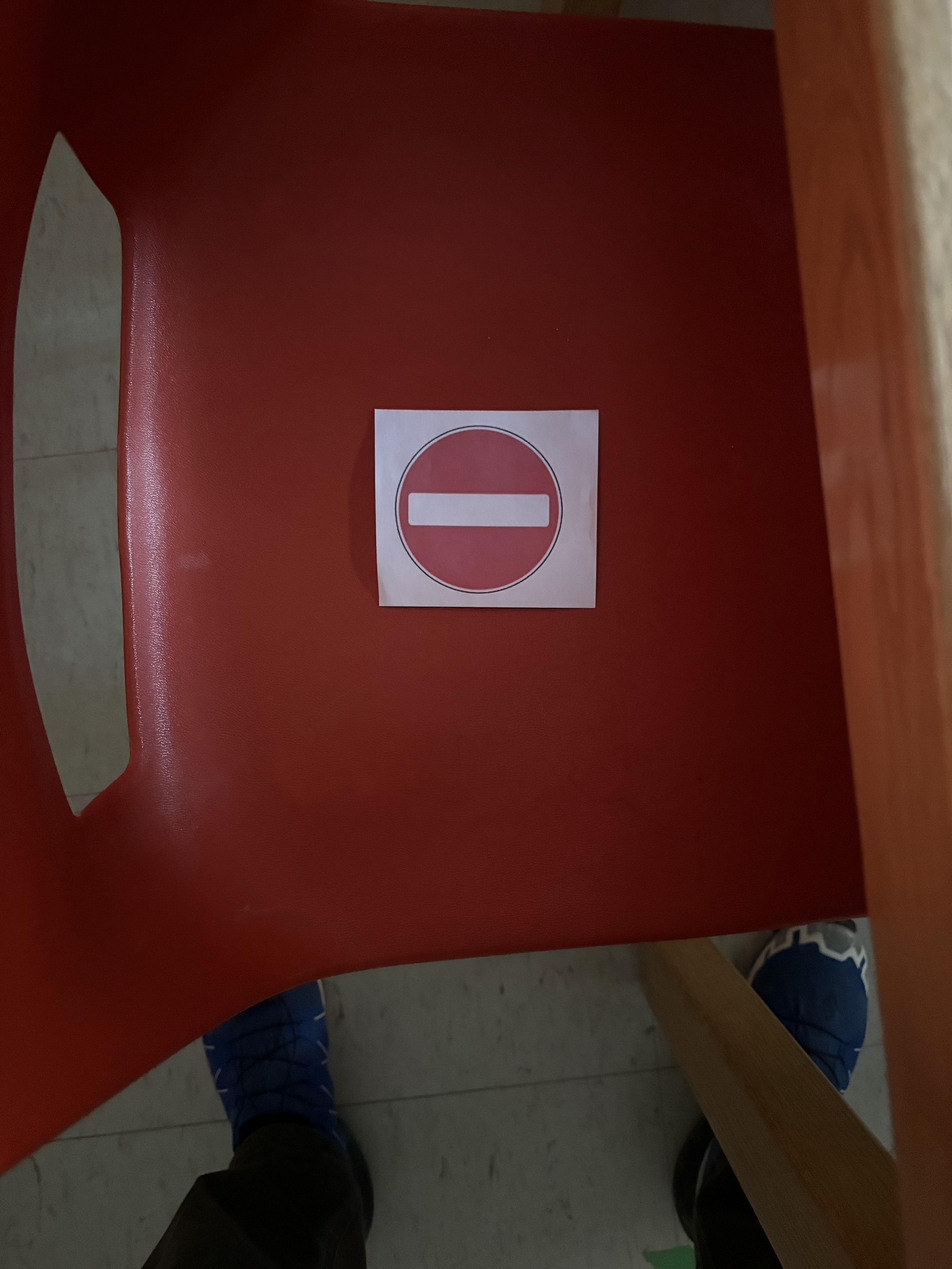No Entry: (373, 408, 598, 614)
